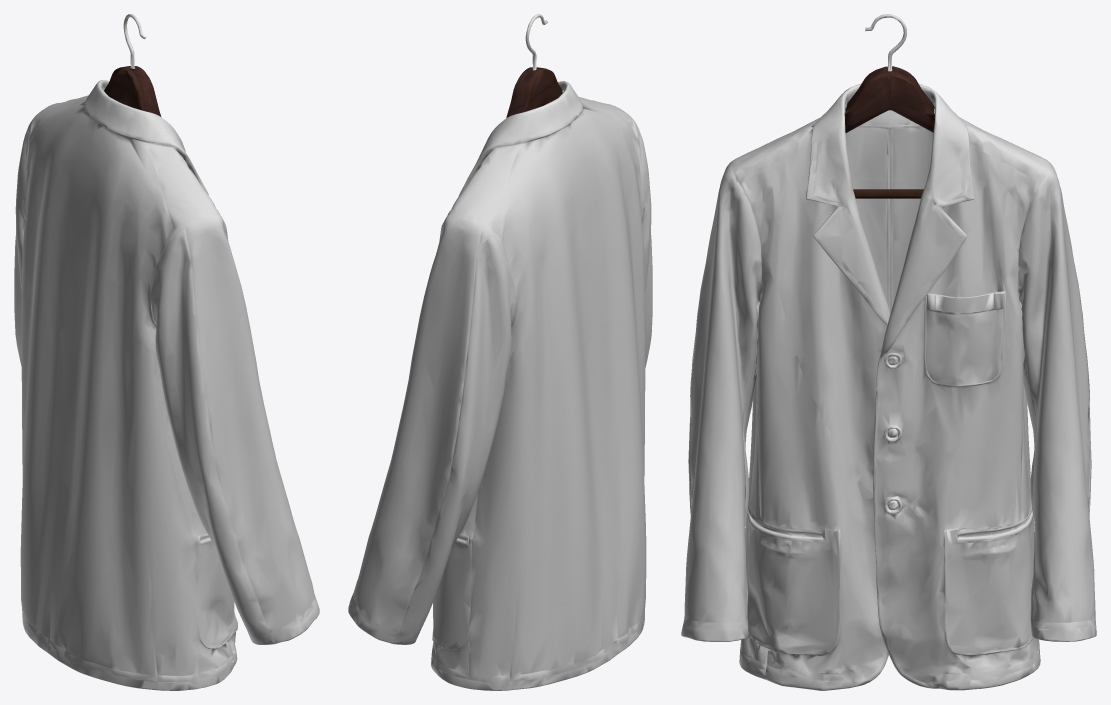
The model's file is physician-coat-2k-phone.glb.
3 views of the same model, side by side, from view 1: azimuth 30°, elevation 25°; view 2: azimuth 150°, elevation 25°; view 3: azimuth 270°, elevation 25° (orthographic). The views are drawn at different scales.
Parts seen in each view (by area): view 1: tripo_node_46f86cf6-57a0-48bf-8879-a32d0e397305; view 2: tripo_node_46f86cf6-57a0-48bf-8879-a32d0e397305; view 3: tripo_node_46f86cf6-57a0-48bf-8879-a32d0e397305.
Part boxes in pixels (box(x1,y1,x2,y2)): tripo_node_46f86cf6-57a0-48bf-8879-a32d0e397305: box(14, 14, 319, 690); tripo_node_46f86cf6-57a0-48bf-8879-a32d0e397305: box(348, 14, 652, 690); tripo_node_46f86cf6-57a0-48bf-8879-a32d0e397305: box(681, 14, 1096, 690).
Bounding box in the file's own units: 0.3069 × 0.9794 × 0.5701.
Materials: 1 (1 with a texture image).
